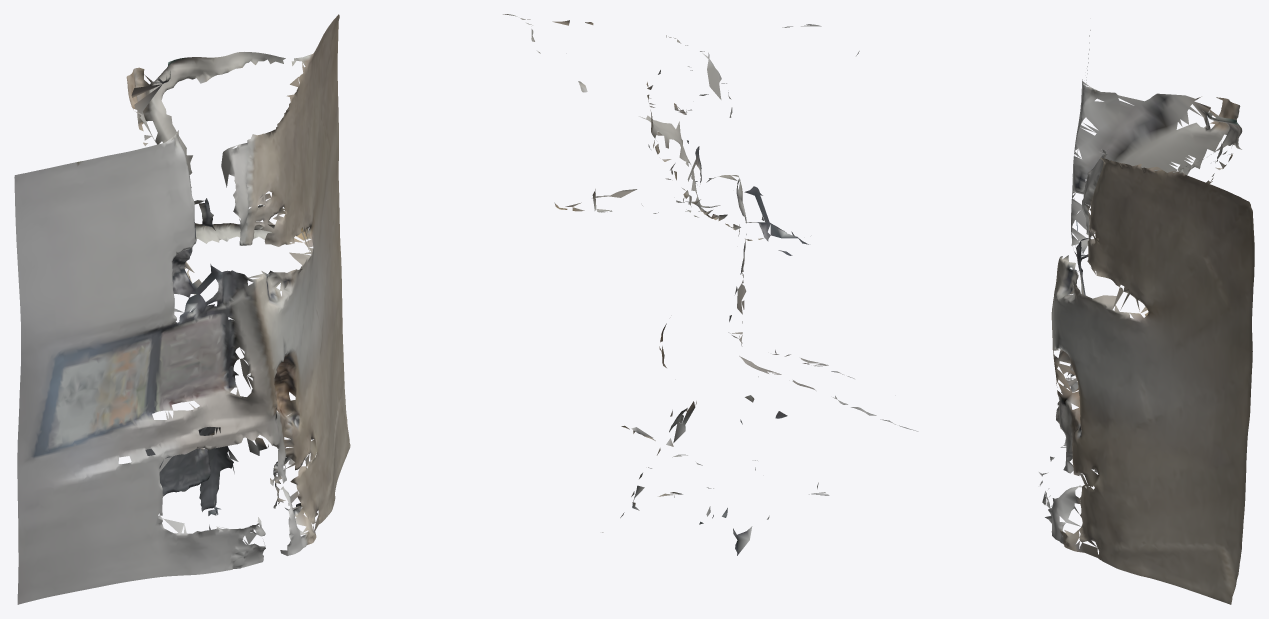
Rendered from mesh_abb5ff3f3aed.glb.
3 renders of one model, left to right at view 1: azimuth 30°, elevation 25°; view 2: azimuth 150°, elevation 25°; view 3: azimuth 270°, elevation 25°, orthographic. The views are drawn at different scales.
Bounding box in the file's own units: 0.9984 × 0.9938 × 0.4891.
